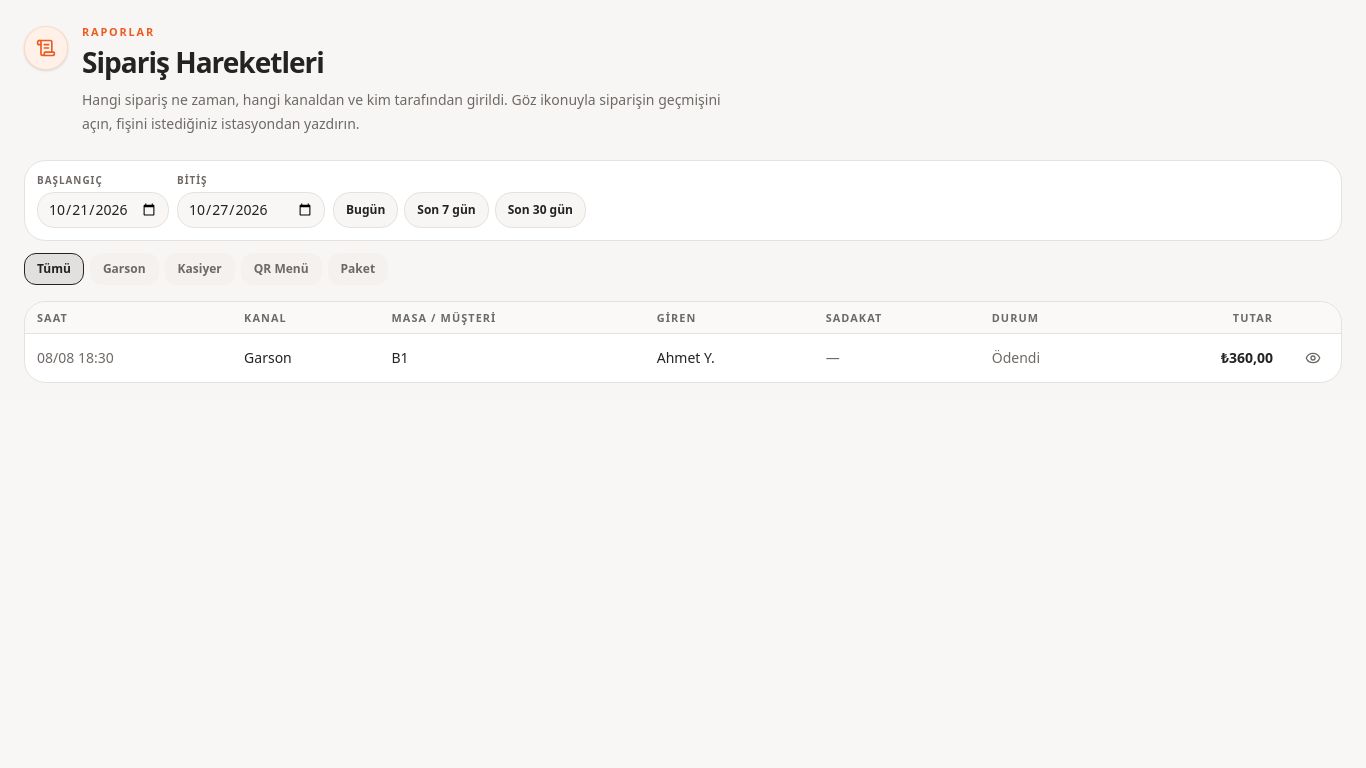
Test: OrderActivityReport › opens the order's history from the row's eye control
The width and height of the screenshot is (1366, 768).
Expected: the text "Ahmet Y." is shown, [645,334,814,382]
Expected: the text "Latte" is not shown
Click the button named "detayını aç" at (1313,358), box [1297,342,1329,374]
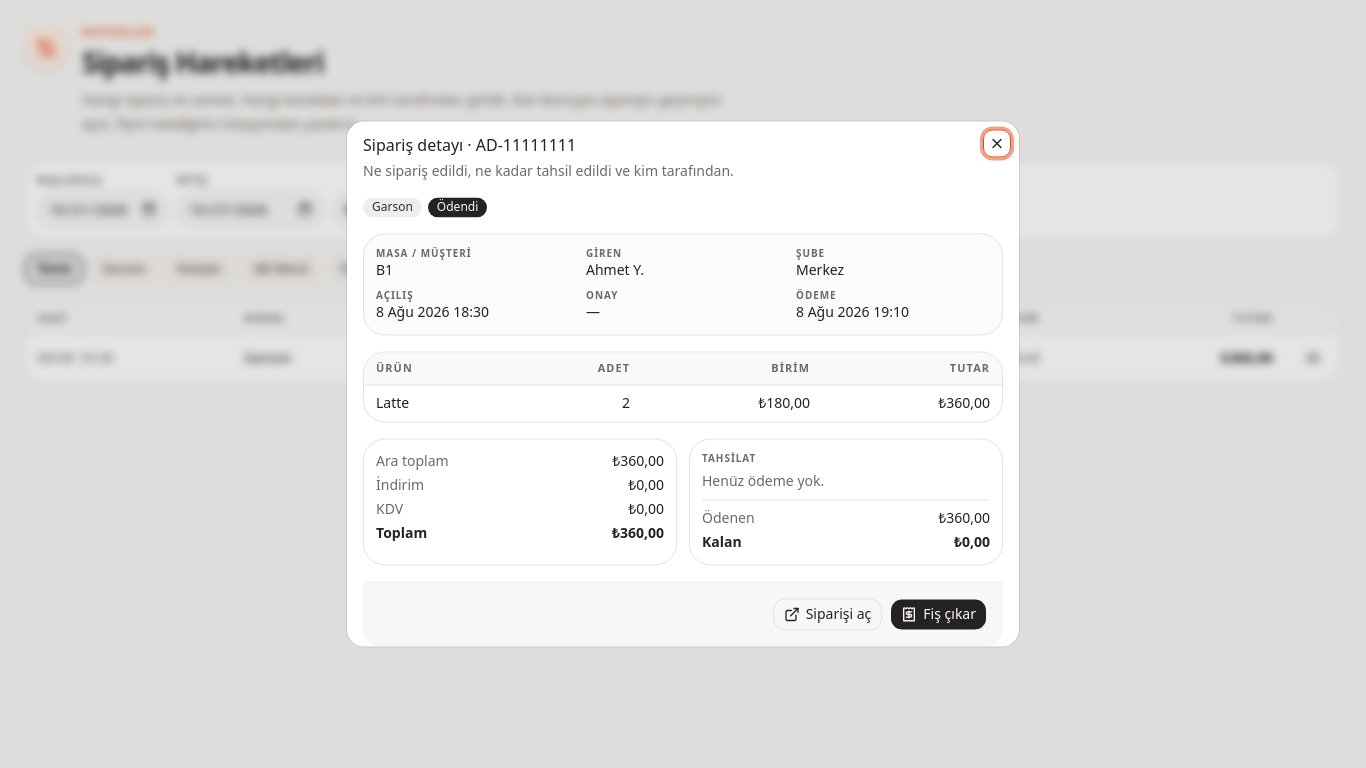
Expected: the heading "Sipariş detayı · AD-11111111" is shown, [363,134,576,156]
Expected: the text "Latte" is shown, [376,393,409,412]
